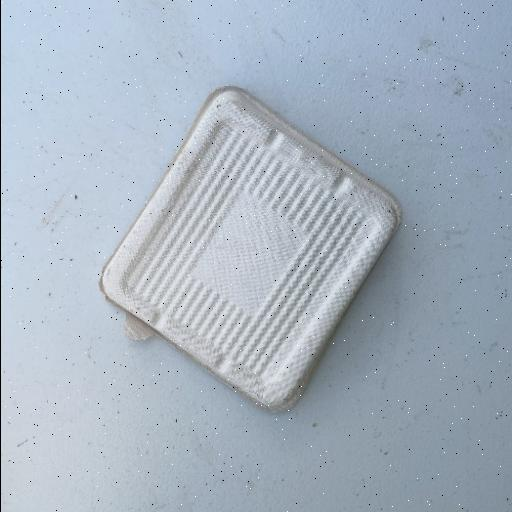Cardboard: (98, 84, 402, 414)
